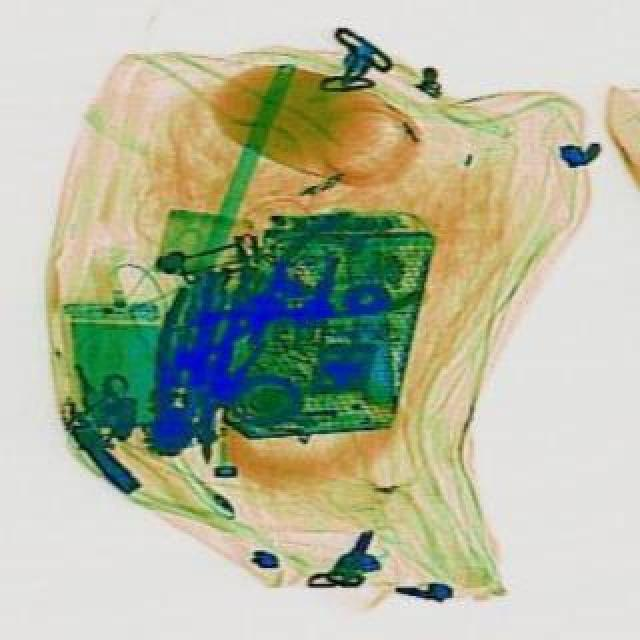wrench: (206, 200, 430, 376)
